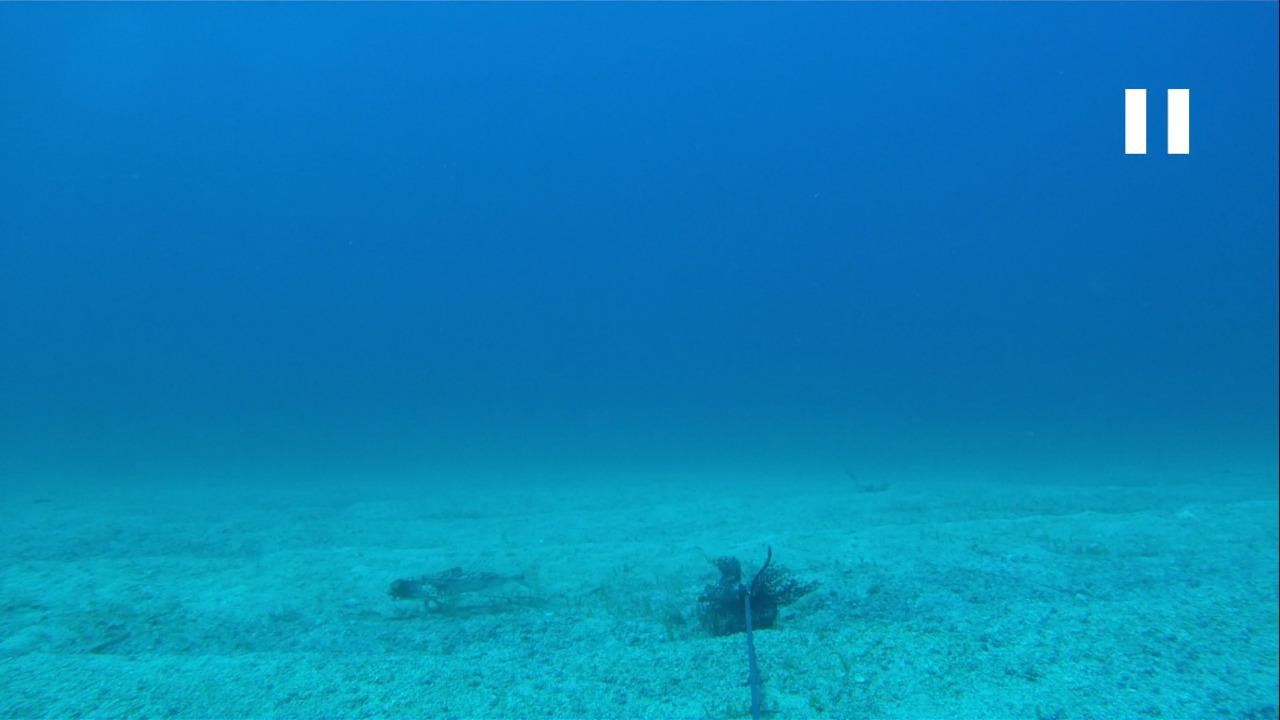dactylopterus: (382, 560, 545, 619)
